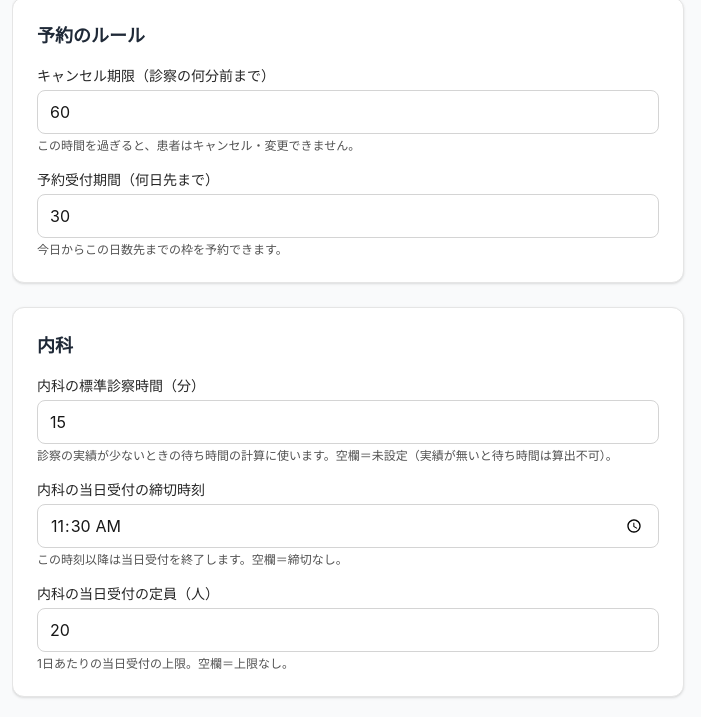
Test: SettingsForm（REQ-006-AC-2 受付期間・キャンセル期限・標準診察時間） › キャンセル期限 に 44641 は範囲外
Replace the text in the number field labelled "キャンセル期限（診察の何分前まで）" with "44641" at point(348, 112), box 37,90 -> 659,134
(page scrolled)
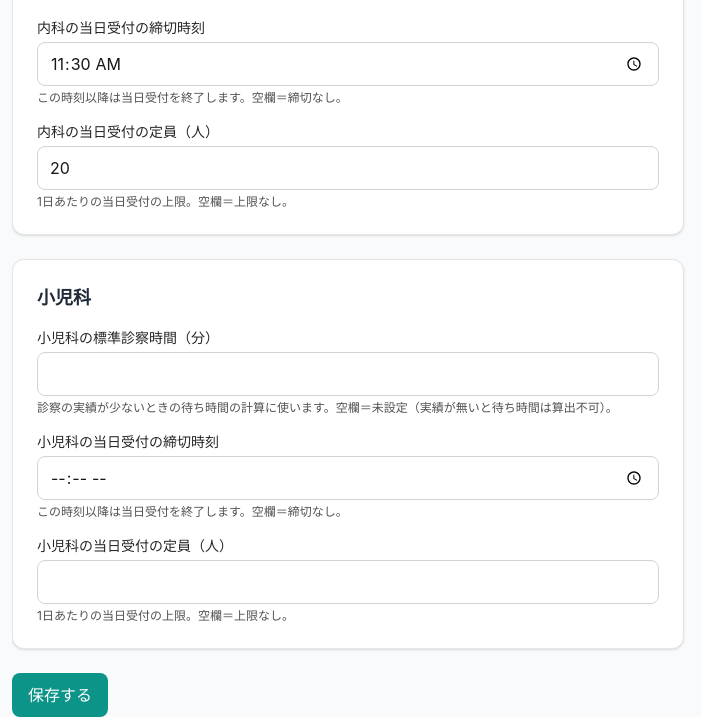
Click the button "保存する" at point(60, 695), box 12,673 -> 108,716
(page scrolled)
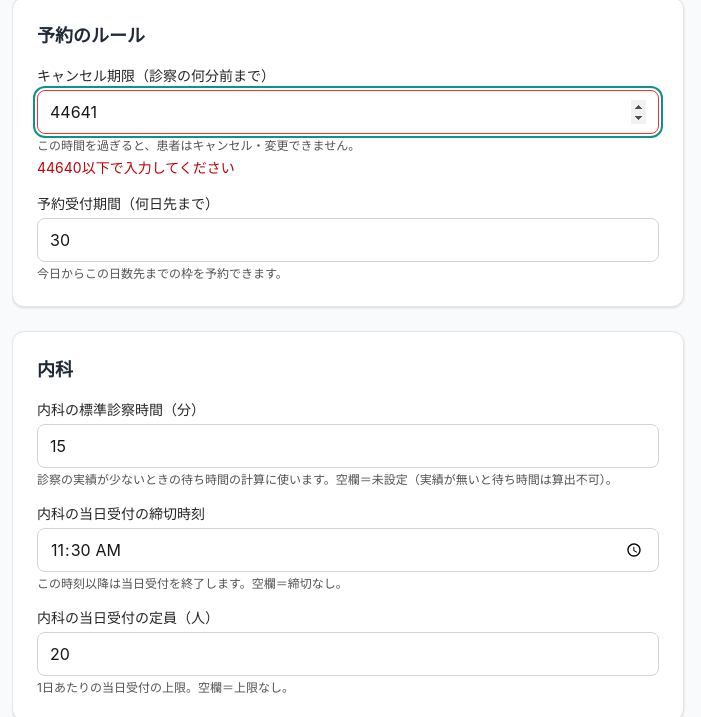
Expected: the text "44640以下で入力してください" is shown, 37,159 -> 235,176
